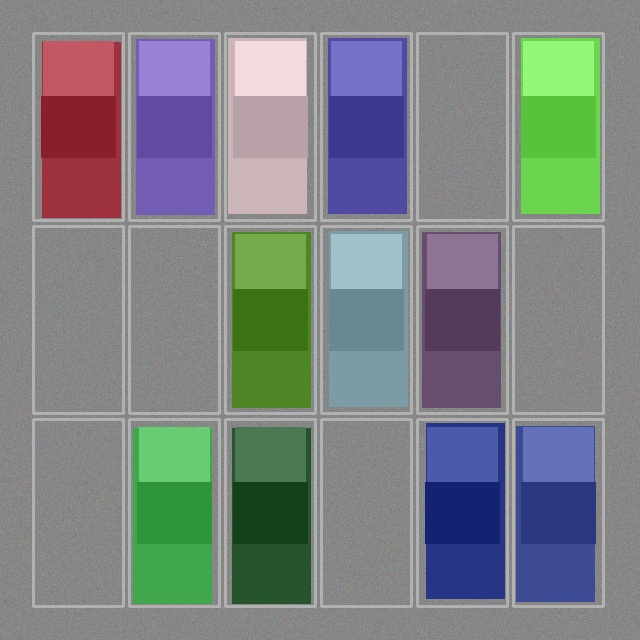space-empty: (419, 35, 505, 218), (35, 228, 121, 411), (131, 228, 217, 411), (515, 228, 601, 411), (35, 421, 121, 604), (323, 421, 409, 604)
space-occupied: (35, 35, 121, 218), (131, 35, 217, 218), (227, 35, 313, 218), (323, 35, 409, 218), (515, 35, 601, 218), (227, 228, 313, 411), (323, 228, 409, 411), (419, 228, 505, 411), (131, 421, 217, 604), (227, 421, 313, 604), (419, 421, 505, 604), (515, 421, 601, 604)
